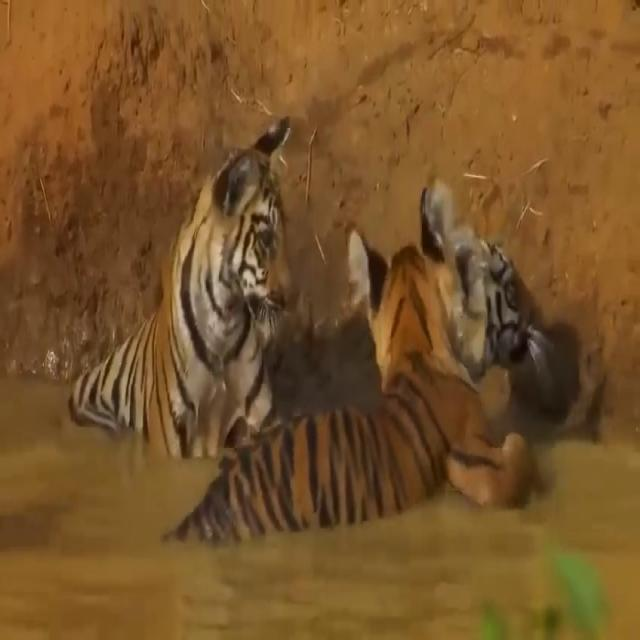tiger: (162, 182, 539, 548), (66, 110, 294, 462)
